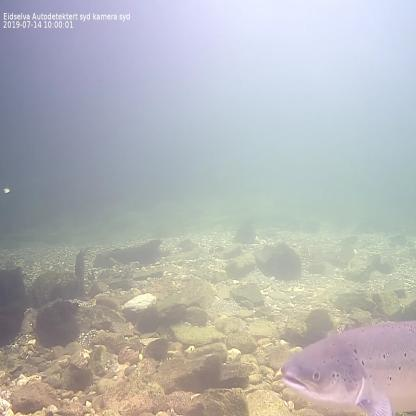salmon: (279, 318, 416, 416)
